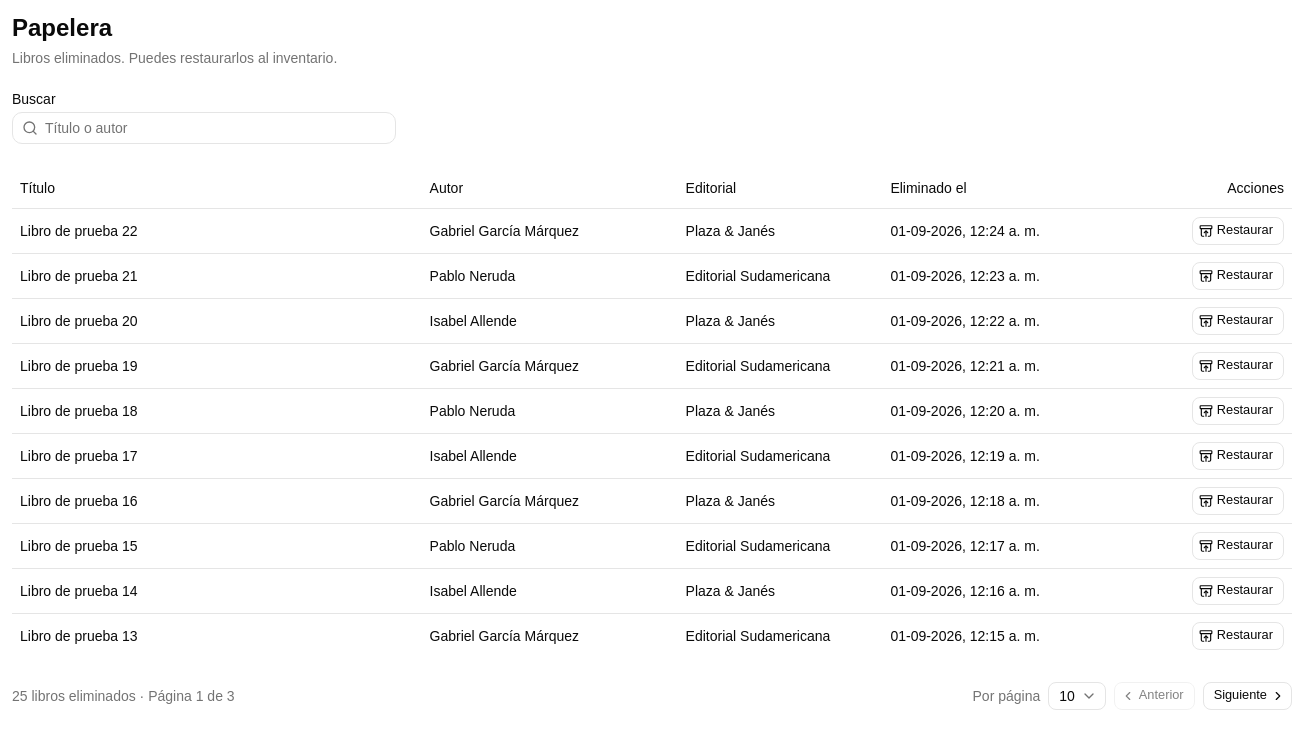
Test: TrashPage › pagina en el servidor con el estado en la URL
Expected: the text "25 libros eliminados · Página 1 de 3" is shown, 12,686 -> 235,706
Click the button "Siguiente" at (1247, 696), box 1203,682 -> 1292,710
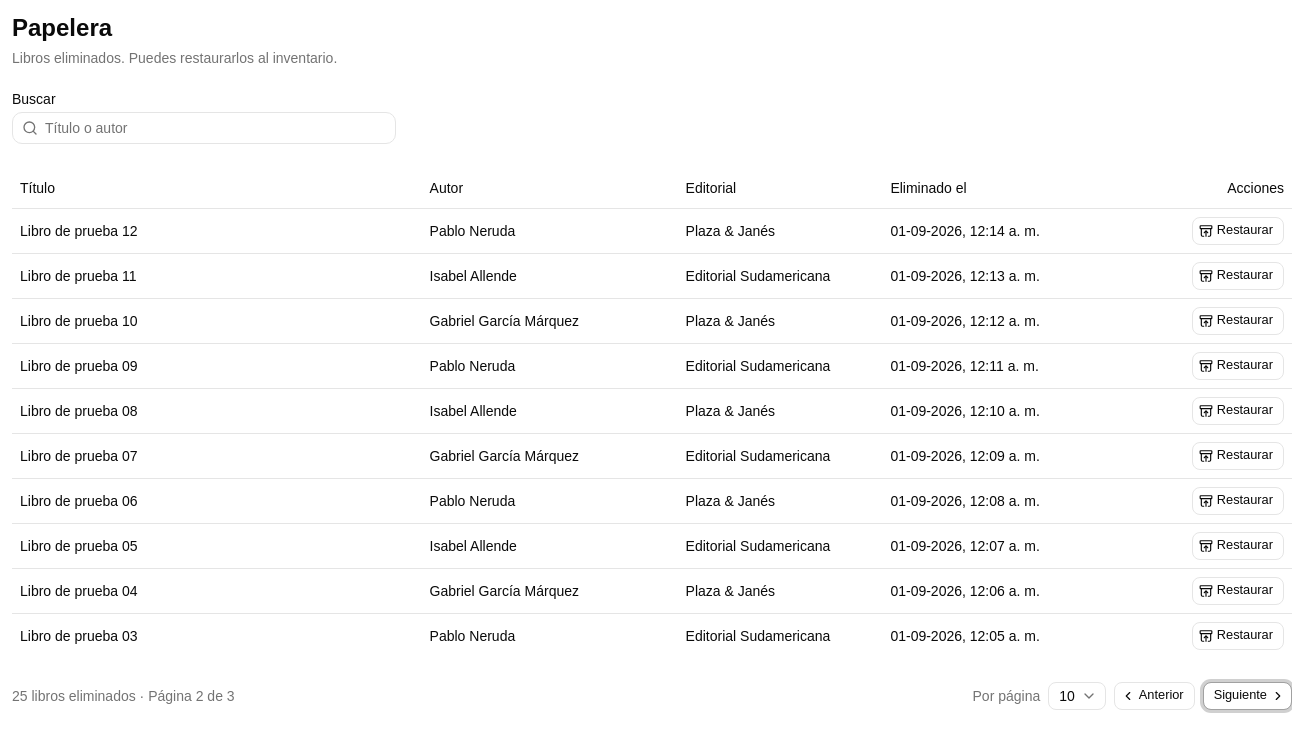
Expected: the text "25 libros eliminados · Página 2 de 3" is shown, 12,686 -> 235,706
